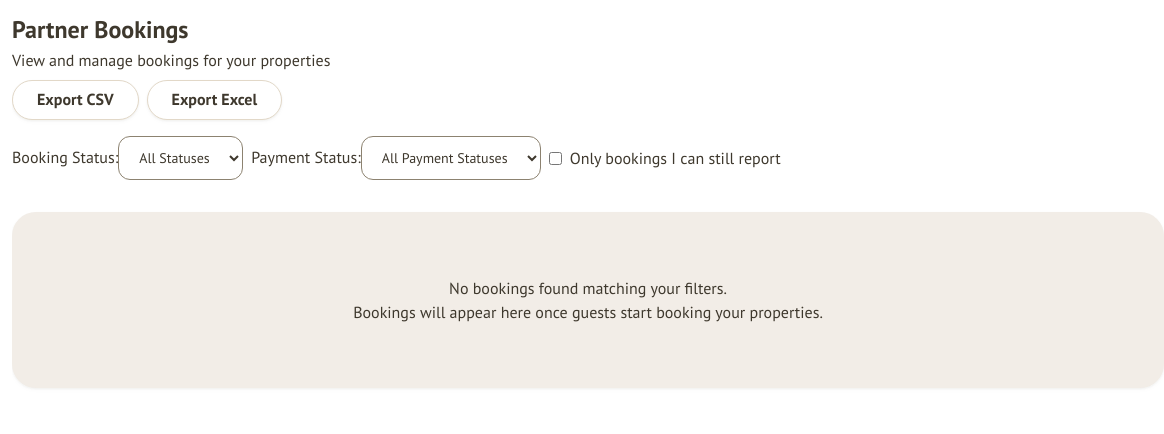
PartnerBookingsView export › shows why the export failed and saves nothing
Click the button "Export CSV" at (75, 100), box [12,80,139,120]
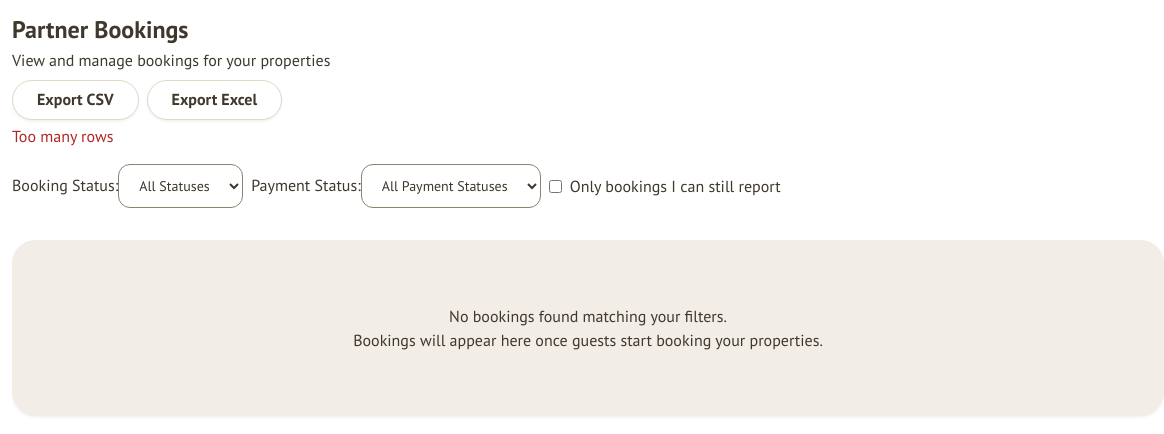
Result: the message reads "Too many rows" at [12,126,113,146]
